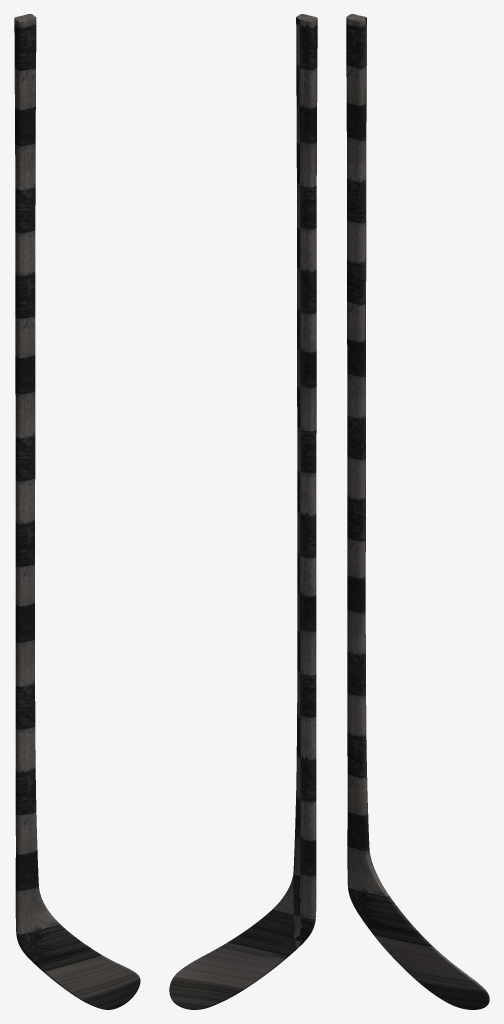
The model's file is P62-SBO.glb.
The picture shows the model from 3 angles, left to right: view 1: azimuth 30°, elevation 25°; view 2: azimuth 150°, elevation 25°; view 3: azimuth 330°, elevation 25°; orthographic projection. The views are drawn at different scales.
Visible parts, largest first — view 1: geometry_0; view 2: geometry_0; view 3: geometry_0.
Part boxes in pixels (bbox=[...]): geometry_0: bbox=[14, 14, 140, 1009]; geometry_0: bbox=[169, 14, 317, 1009]; geometry_0: bbox=[346, 14, 489, 1009].
Size of the model in its own units: 229 by 1650 by 53.77.
Materials: 1 (1 with a texture image).
